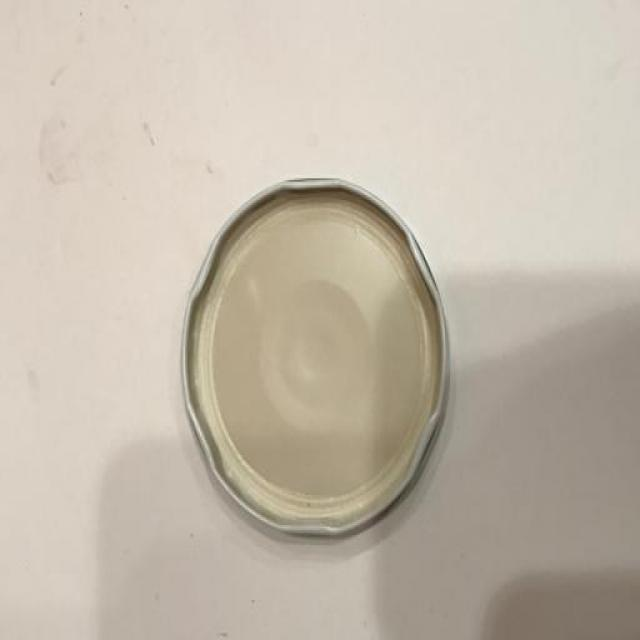metel: (172, 155, 456, 555)
